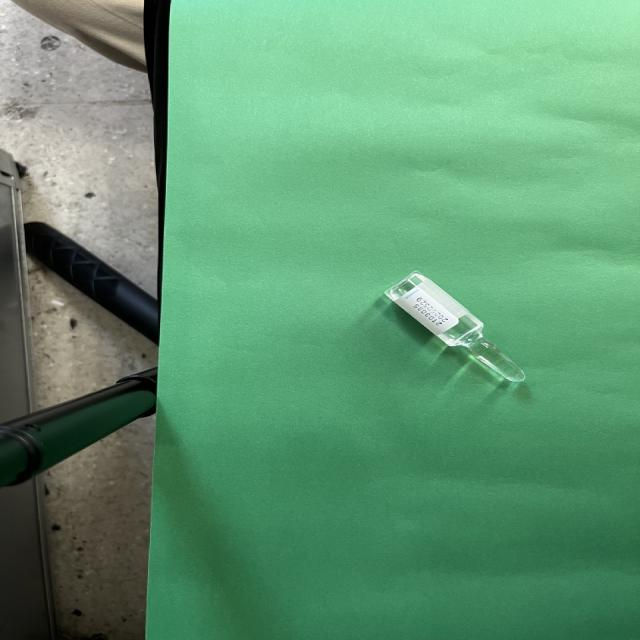Ampoules: (385, 272, 525, 383)
